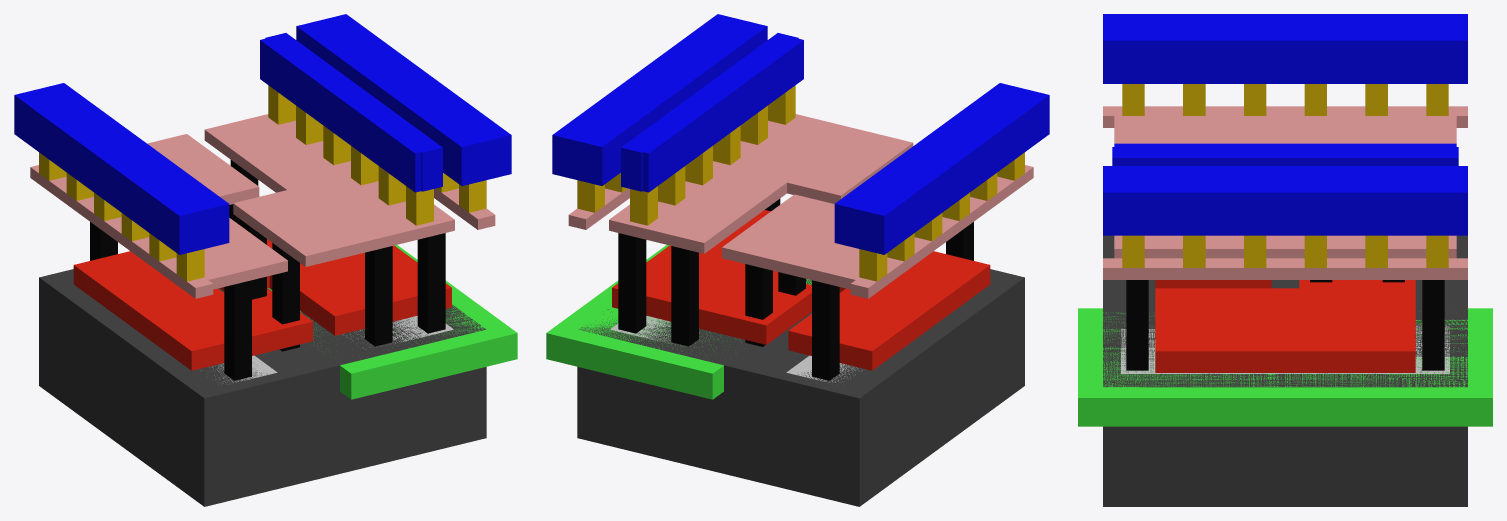
The model's file is sky130_fd_sc_hd__lpflow_decapkapwr_6.obj.
3 views of the same model, side by side, from view 1: azimuth 30°, elevation 25°; view 2: azimuth 150°, elevation 25°; view 3: azimuth 270°, elevation 25° (orthographic). The views are drawn at different scales.
Visible parts, largest first — view 1: subs, metal1, li, poly, licon, mcon, nwell, tap; view 2: subs, metal1, li, poly, licon, mcon, nwell, tap; view 3: metal1, subs, nwell, poly, li, mcon, licon, tap.
Part boxes in pixels (box(x1,y1,x2,y2)): subs: box(39, 269, 486, 506); metal1: box(14, 14, 511, 254); li: box(30, 114, 495, 298); poly: box(73, 239, 451, 370); licon: box(90, 160, 445, 380); mcon: box(39, 85, 486, 281); nwell: box(268, 245, 517, 399); tap: box(343, 316, 453, 349); subs: box(577, 269, 1024, 506); metal1: box(552, 14, 1049, 254); li: box(568, 114, 1033, 298); poly: box(612, 210, 990, 370); licon: box(618, 198, 973, 380); mcon: box(577, 85, 1024, 281); nwell: box(546, 245, 811, 399); tap: box(610, 316, 706, 344); metal1: box(1103, 14, 1467, 235); subs: box(1103, 235, 1467, 506); nwell: box(1078, 308, 1492, 426); poly: box(1155, 280, 1415, 372); li: box(1103, 106, 1467, 279); mcon: box(1122, 84, 1448, 267); licon: box(1126, 280, 1444, 370); tap: box(1121, 325, 1449, 373).
Bounding box in the file's own units: 3.2 × 2.74 × 3.14.
